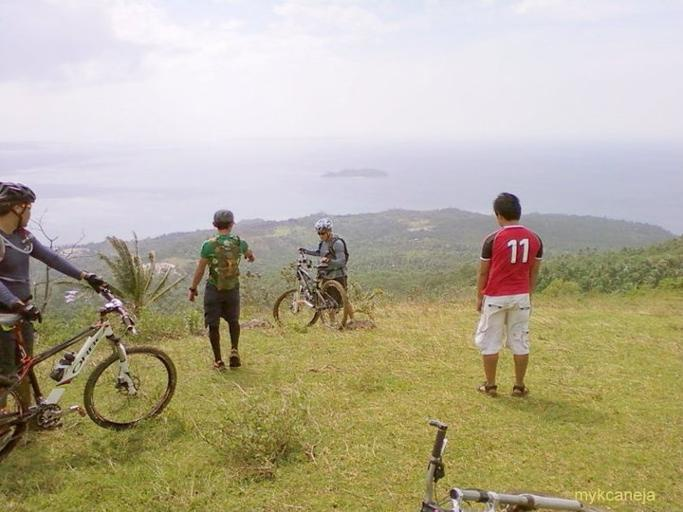non-vehicle: (0, 282, 178, 464), (418, 418, 584, 511), (272, 248, 349, 330)
